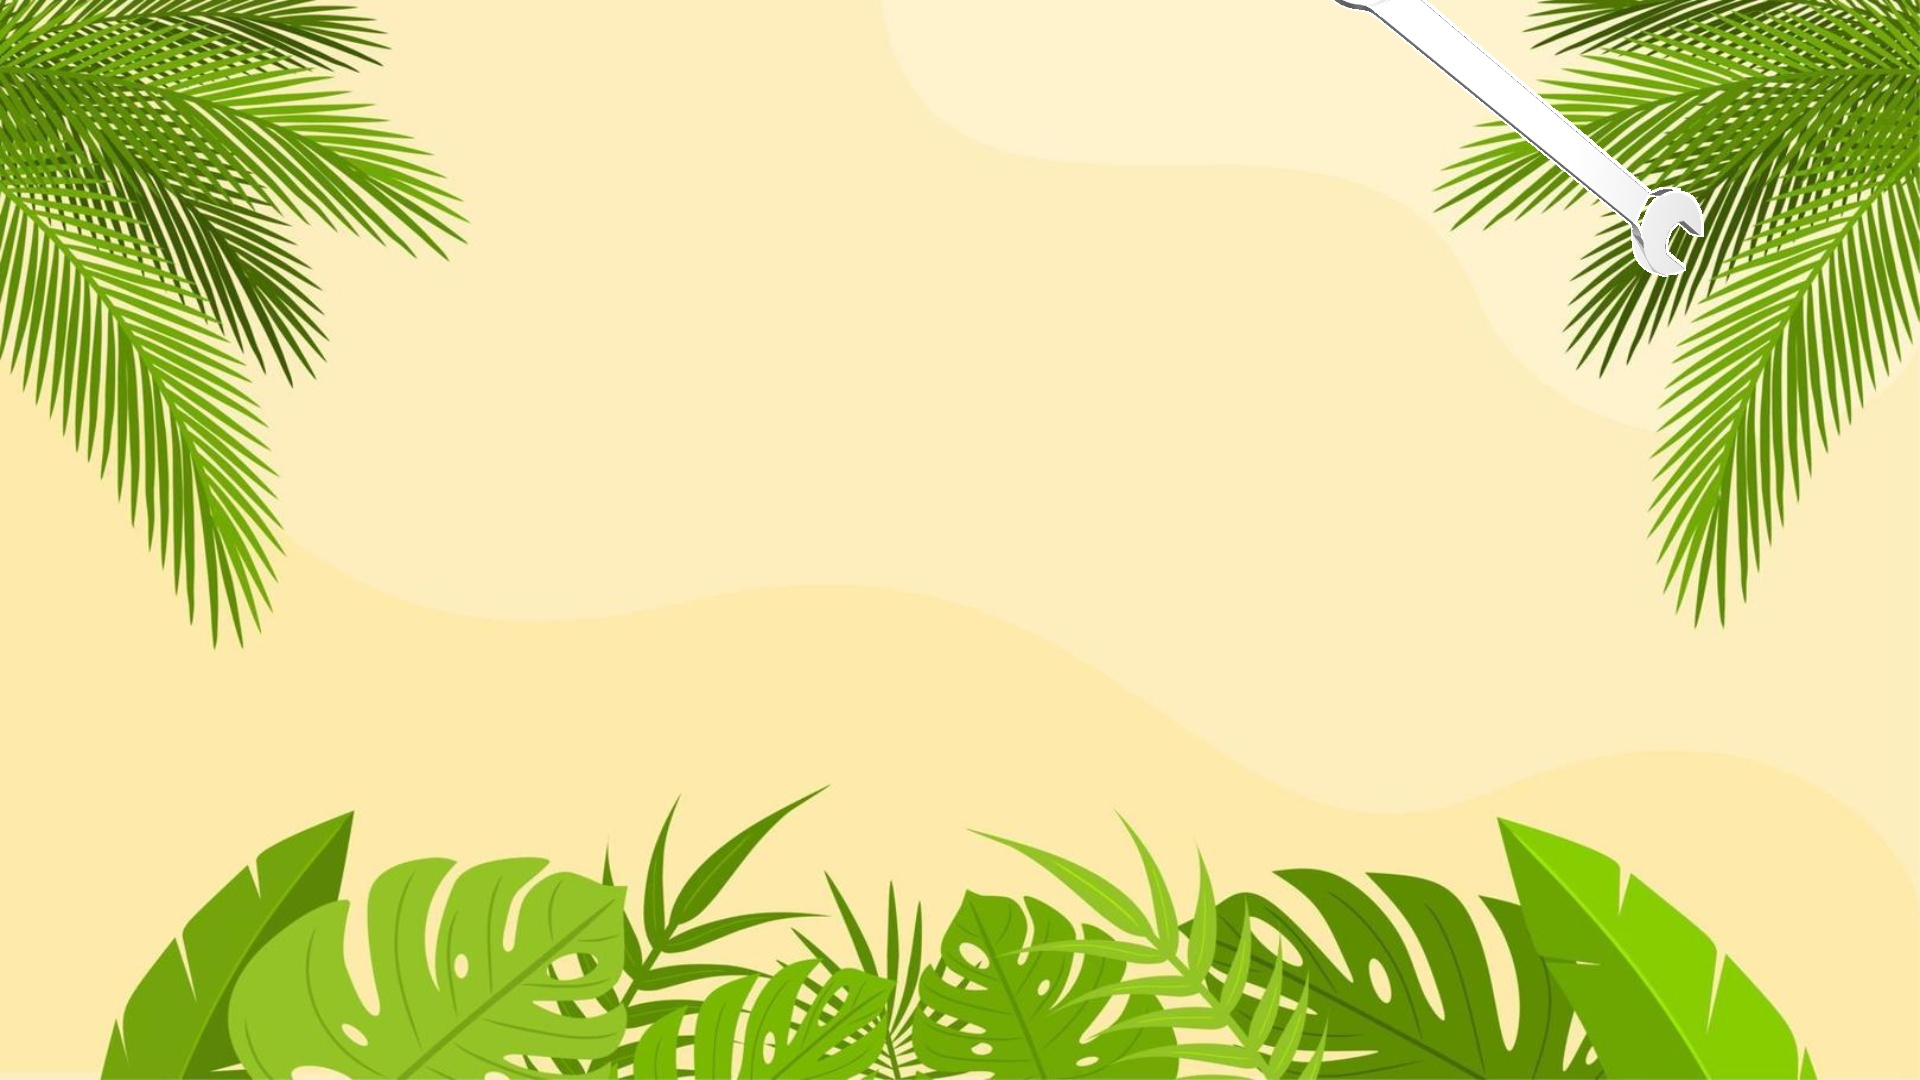Mixed Key: (1331, 0, 1702, 276)
